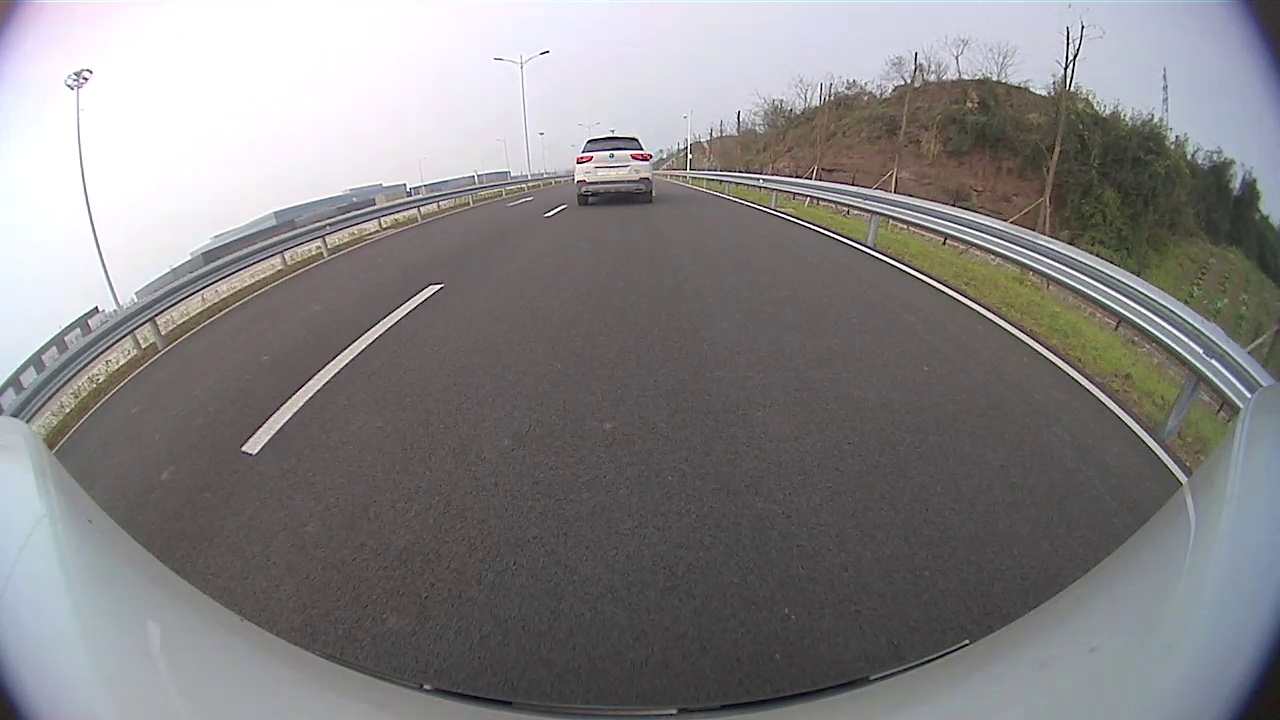car: (573, 134, 655, 207)
